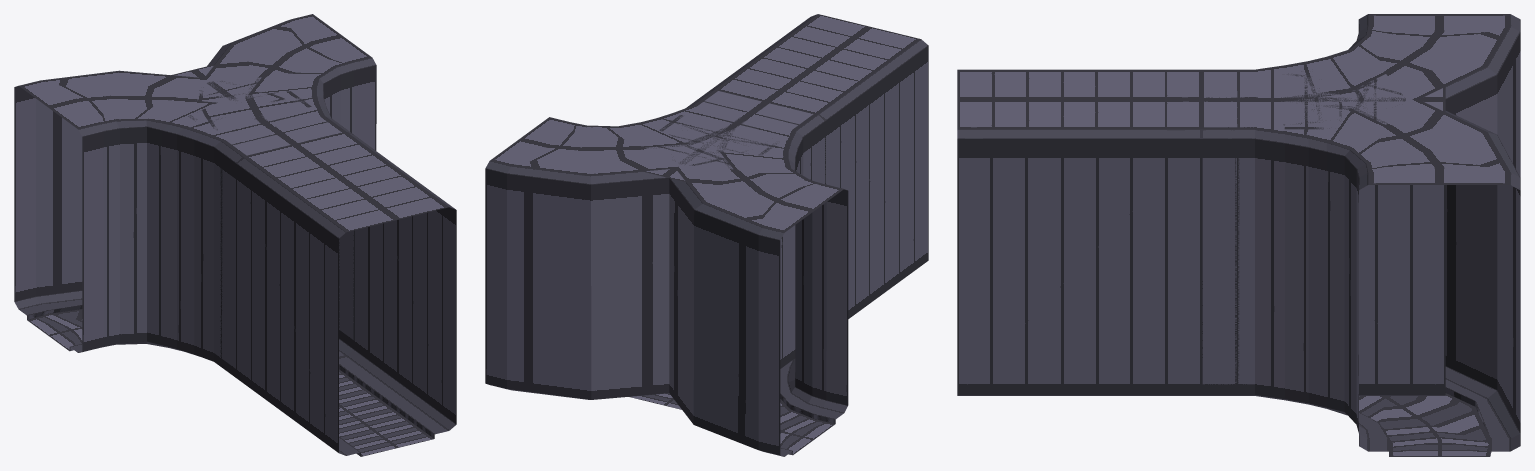
File: corridors.glb
3 renders of one model, left to right at view 1: azimuth 30°, elevation 25°; view 2: azimuth 150°, elevation 25°; view 3: azimuth 270°, elevation 25°, orthographic. The views are drawn at different scales.
Parts seen in each view (by area): view 1: straight, lcurve, rcurve; view 2: rcurve, lcurve, straight; view 3: straight, rcurve, lcurve.
Part boxes in pixels (<box>): straight: <box>171,64,456,456</box>; lcurve: <box>14,70,353,377</box>; rcurve: <box>198,14,376,377</box>; rcurve: <box>485,89,825,399</box>; lcurve: <box>669,90,848,456</box>; straight: <box>629,14,928,409</box>; straight: <box>957,69,1445,395</box>; rcurve: <box>1201,69,1520,456</box>; lcurve: <box>1201,14,1520,394</box>.
Size of the model in its own units: 68 by 50.4 by 94.6.
1 material, 1 textured.
